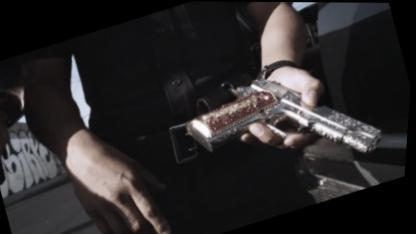pistol: (167, 35, 399, 210)
